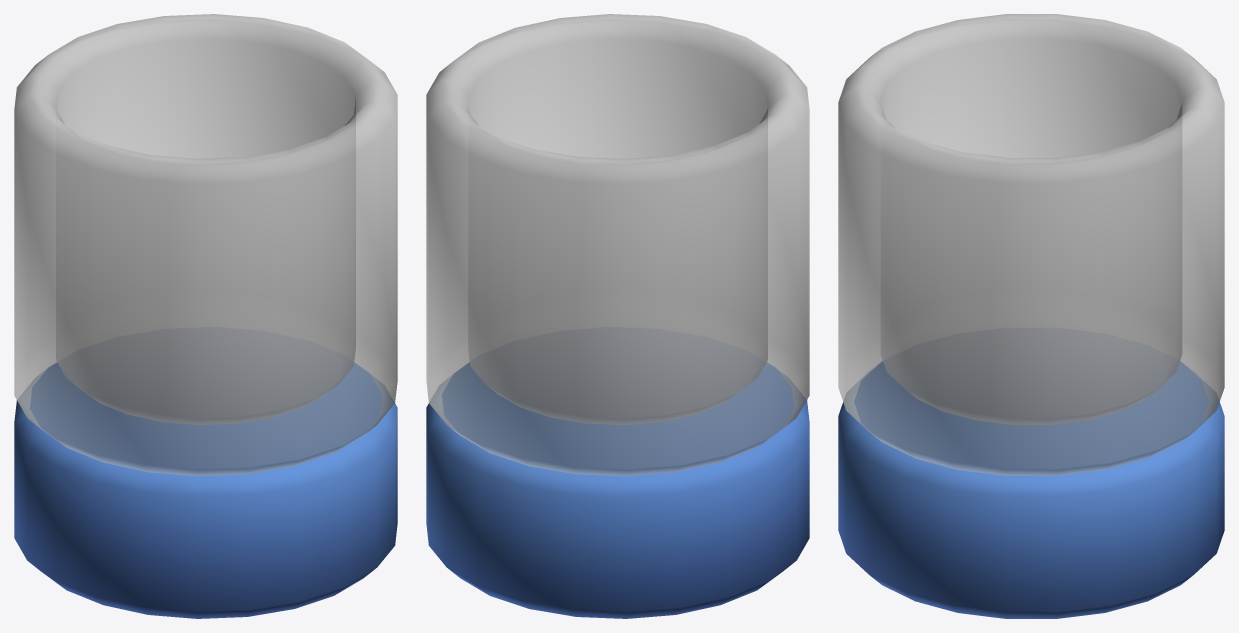
The model's file is JumpTube.fbx.
The picture shows the model from 3 angles, left to right: view 1: azimuth 30°, elevation 25°; view 2: azimuth 150°, elevation 25°; view 3: azimuth 270°, elevation 25°; orthographic projection.
Visible parts, largest first — view 1: Cylinder.021; view 2: Cylinder.021; view 3: Cylinder.021.
Boxes of the visible parts, left/top/right/bottom form: Cylinder.021: left=14, top=14, right=397, bottom=618; Cylinder.021: left=426, top=14, right=809, bottom=618; Cylinder.021: left=838, top=14, right=1224, bottom=618.
Size of the model in its own units: 1.98 by 2.61 by 2.
